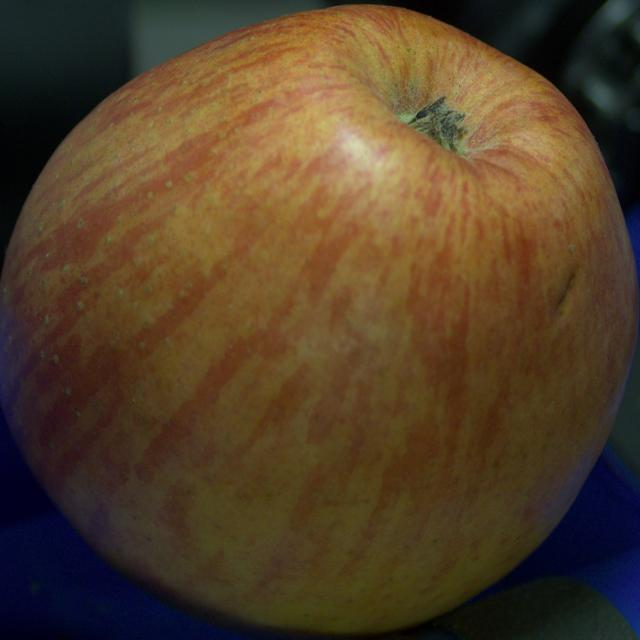apple: (0, 6, 638, 635)
scratch: (551, 261, 580, 316)
